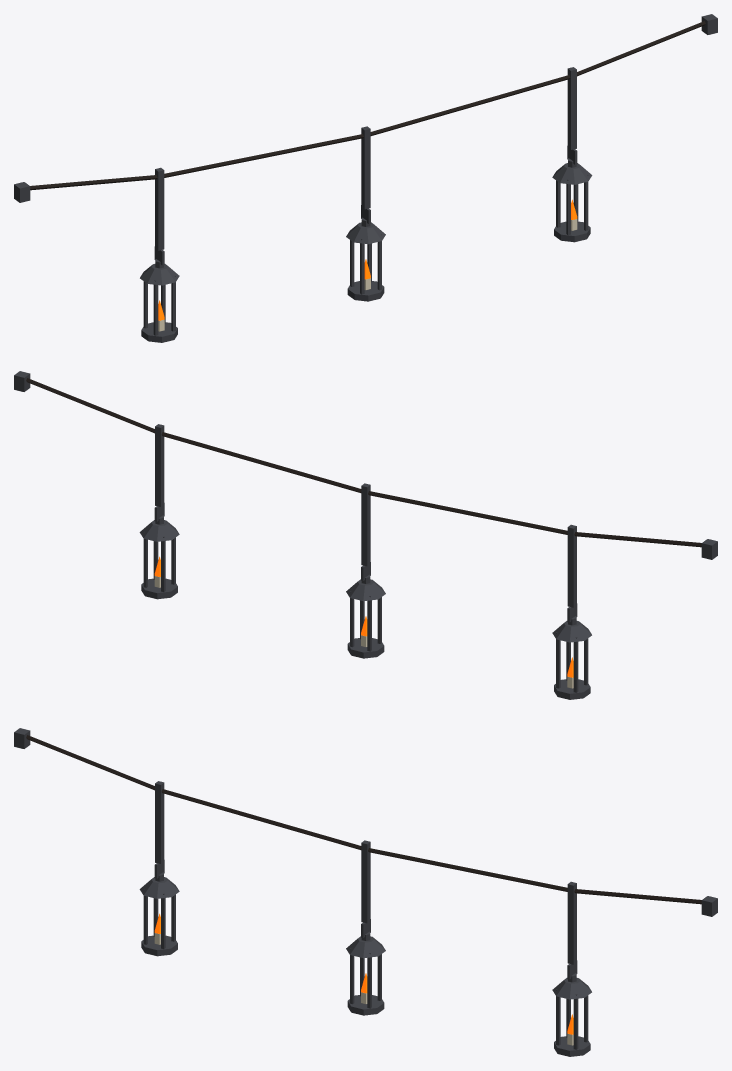
Rendered from mine_lamp_string.glb.
3 renders of one model, top to bottom at view 1: azimuth 30°, elevation 25°; view 2: azimuth 150°, elevation 25°; view 3: azimuth 330°, elevation 25°, orthographic.
Parts seen in each view (by area): view 1: mine_lamp_string; view 2: mine_lamp_string; view 3: mine_lamp_string.
Boxes of the visible parts, box(x1,y1,x2,y2) form: mine_lamp_string: box(14, 14, 717, 342); mine_lamp_string: box(14, 371, 717, 699); mine_lamp_string: box(14, 728, 717, 1056).
Size of what is drawn, in the model's own units: 4.06 by 1.07 by 0.1885.
